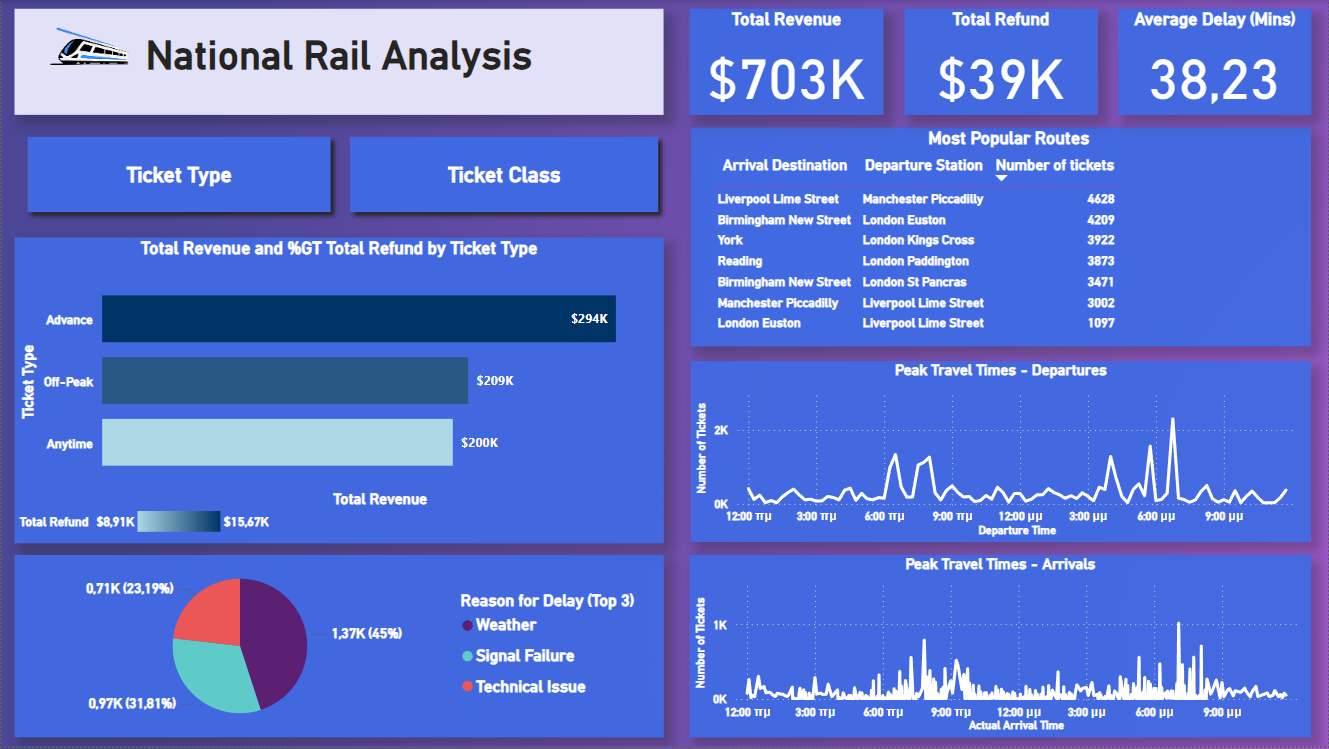

The dashboard page shown, as its layout file describes it:
{"tool":"powerbi","page":{"name":"Exploratory Analysis","canvas":[1280,720],"ordinal":0},"visuals":[{"type":"textbox","box":[12.7,8.9,626.6,102.5],"z":0},{"type":"image","box":[57.9,0,144.8,94.1],"z":1000},{"type":"tableEx","title":"Most Popular Routes","fields":{"Values":["route_dim.Arrival Destination","route_dim.Departure Station","revenue.route_dim_id"]},"box":[664.6,122.8,598.7,211.4],"z":2000},{"type":"lineChart","title":"Peak Travel Times - Departures","fields":{"Category":["datetime_journey_dim.Departure Time"],"Y":["CountNonNull(revenue.datetime_journey_dim_id)"]},"box":[664.6,348.1,598.7,174.7],"z":3000},{"type":"lineChart","title":"Peak Travel Times - Arrivals","fields":{"Y":["CountNonNull(revenue.datetime_journey_dim_id)"],"Category":["datetime_journey_dim.Actual Arrival Time"]},"box":[663.3,535.4,600,175.9],"z":4000},{"type":"card","title":"Total Revenue","fields":{"Values":["Sum(revenue.cc_revenue)"]},"box":[663.3,8.9,187.3,102.5],"z":5000},{"type":"card","title":"Total Refund","fields":{"Values":["Sum(revenue.cc_total_refund)"]},"box":[870.9,8.9,186.1,102.5],"z":6000},{"type":"clusteredBarChart","fields":{"Category":["purchase_ticket_dim.Ticket Type"],"Y":["Sum(revenue.cc_revenue)"]},"box":[12.7,229.1,626.6,294.9],"z":7000},{"type":"actionButton","title":"Ticket Type","box":[16.1,122.9,310.3,90.6],"z":8000},{"type":"actionButton","title":"Ticket Type","box":[326.5,122.9,315.3,90.6],"z":9000},{"type":"card","title":"Average Delay (Mins)","fields":{"Values":["datetime_journey_dim.m_average_delay"]},"box":[1077.2,8.9,186.1,102.5],"z":11000},{"type":"pieChart","fields":{"Category":["revenue.Reason for Delay"],"Y":["CountNonNull(revenue.Reason for Delay)"]},"box":[12.7,535.4,626.6,175.9],"z":11001}]}

Visuals, with their boxes in screenshot pixels (x1, y1, x2, y2), scaled from the page's 1280x720 canvas onto the 1329x749 screenshot:
textbox: bbox(13, 9, 664, 116)
image: bbox(60, 0, 210, 98)
"Most Popular Routes" tableEx: bbox(690, 128, 1312, 348)
"Peak Travel Times - Departures" lineChart: bbox(690, 362, 1312, 544)
"Peak Travel Times - Arrivals" lineChart: bbox(689, 557, 1312, 740)
"Total Revenue" card: bbox(689, 9, 883, 116)
"Total Refund" card: bbox(904, 9, 1097, 116)
clusteredBarChart - purchase_ticket_dim.Ticket Type x Sum(revenue.cc_revenue): bbox(13, 238, 664, 545)
"Ticket Type" actionButton: bbox(17, 128, 339, 222)
"Ticket Type" actionButton: bbox(339, 128, 666, 222)
"Average Delay (Mins)" card: bbox(1118, 9, 1312, 116)
pieChart - revenue.Reason for Delay x CountNonNull(revenue.Reason for Delay): bbox(13, 557, 664, 740)
